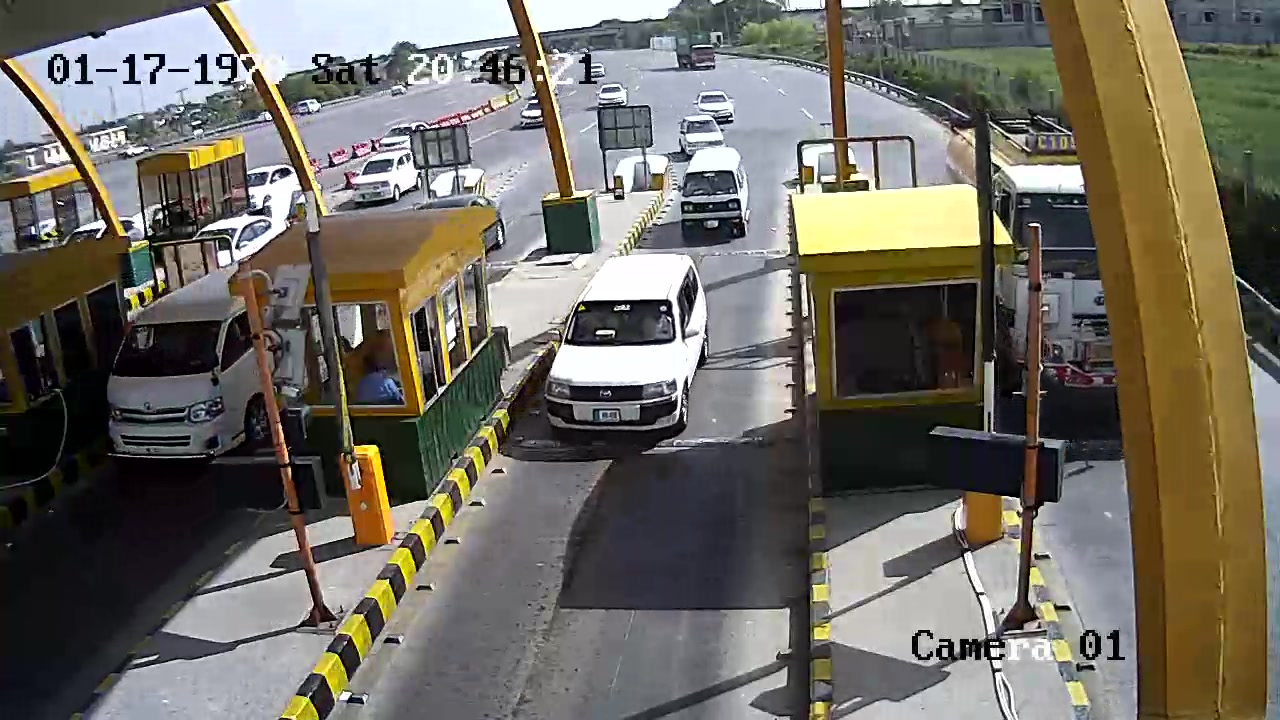F1: (545, 251, 713, 448)
